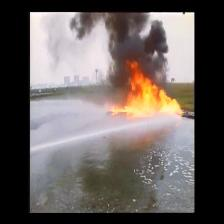fire: (119, 71, 185, 117)
smoke: (106, 13, 168, 70), (72, 11, 98, 40)
